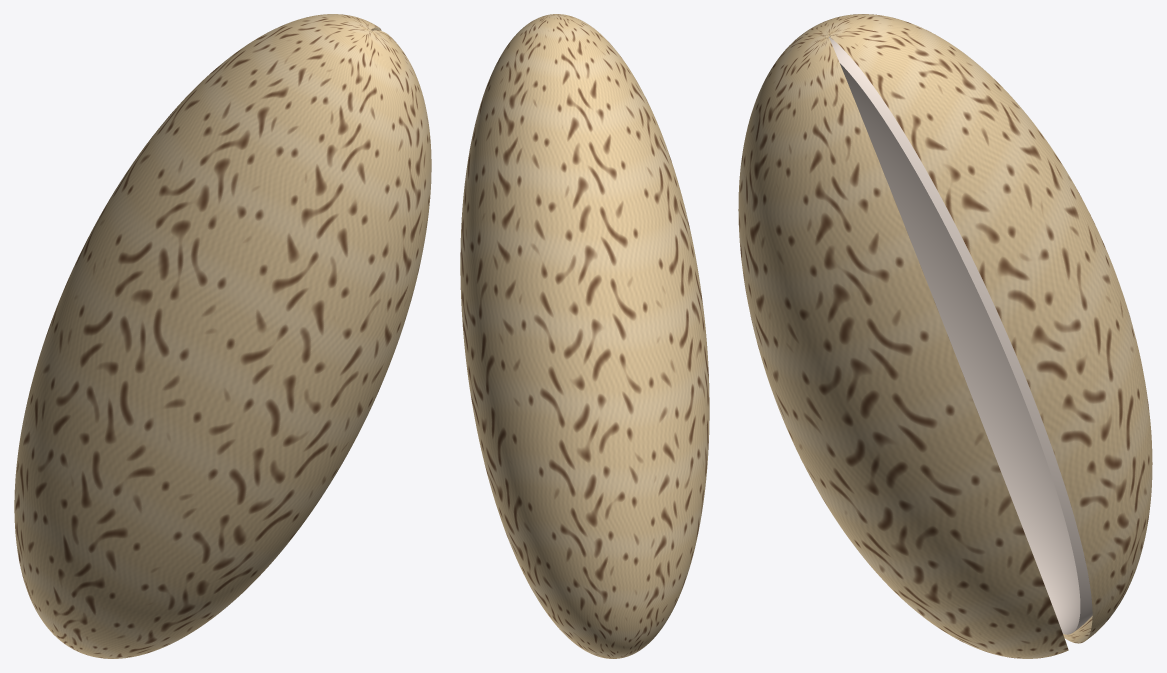
File: olive-shell.glb
3 views of the same model, side by side, from view 1: azimuth 30°, elevation 25°; view 2: azimuth 150°, elevation 25°; view 3: azimuth 270°, elevation 25° (orthographic). The views are drawn at different scales.
Visible parts, largest first — view 1: olive-shell.001; view 2: olive-shell.001; view 3: olive-shell.001.
Boxes of the visible parts, x1,y1,x2,y2 form: olive-shell.001: (14,14,431,658); olive-shell.001: (460,14,709,658); olive-shell.001: (738,14,1152,658).
Bounding box in the file's own units: 1.01 × 2.06 × 1.09.
Materials: 2 (1 with a texture image).
